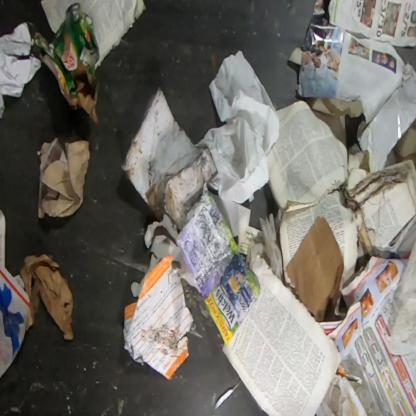cardboard: (32, 0, 101, 129), (0, 208, 32, 377), (20, 252, 74, 340)
soft_plastic: (175, 195, 262, 347)
